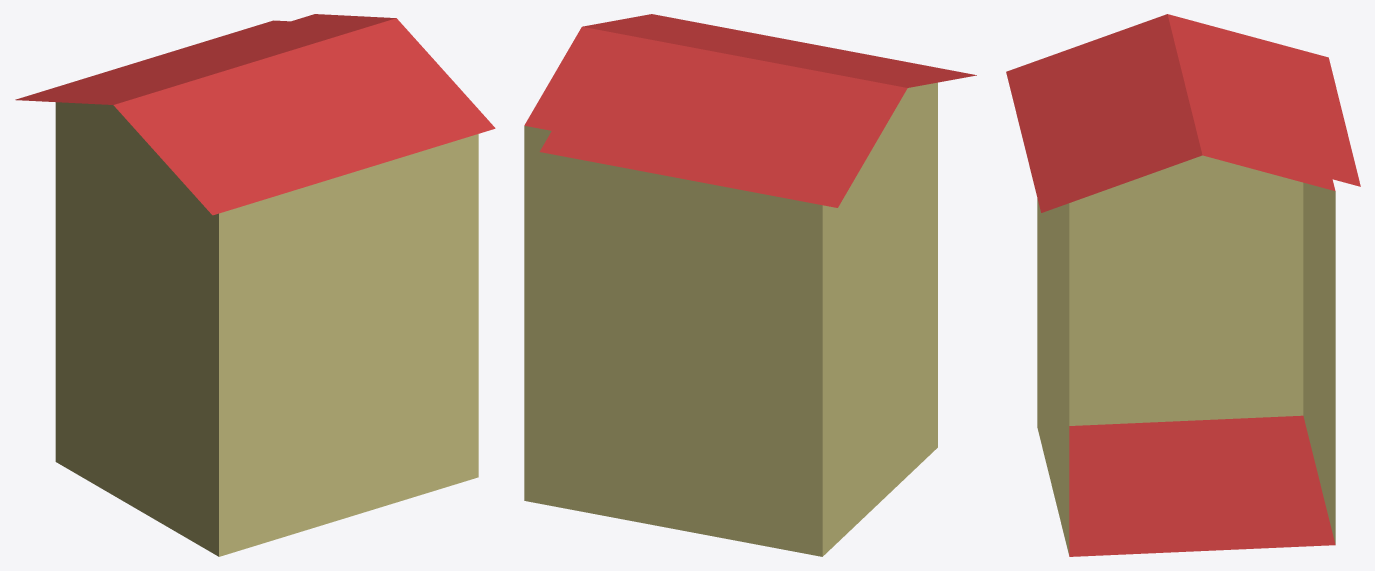
3 renders of one model, left to right at view 1: azimuth 30°, elevation 25°; view 2: azimuth 150°, elevation 25°; view 3: azimuth 270°, elevation 25°, orthographic. The views are drawn at different scales.
Size of the model in its own units: 6.46 by 6.22 by 7.65.
